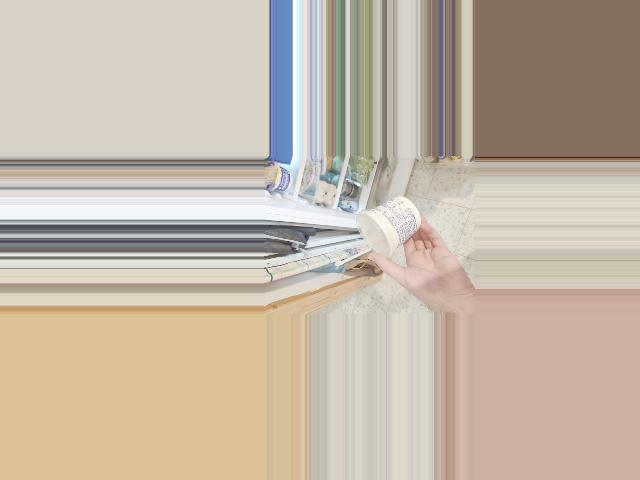cotage: (354, 198, 411, 256)
